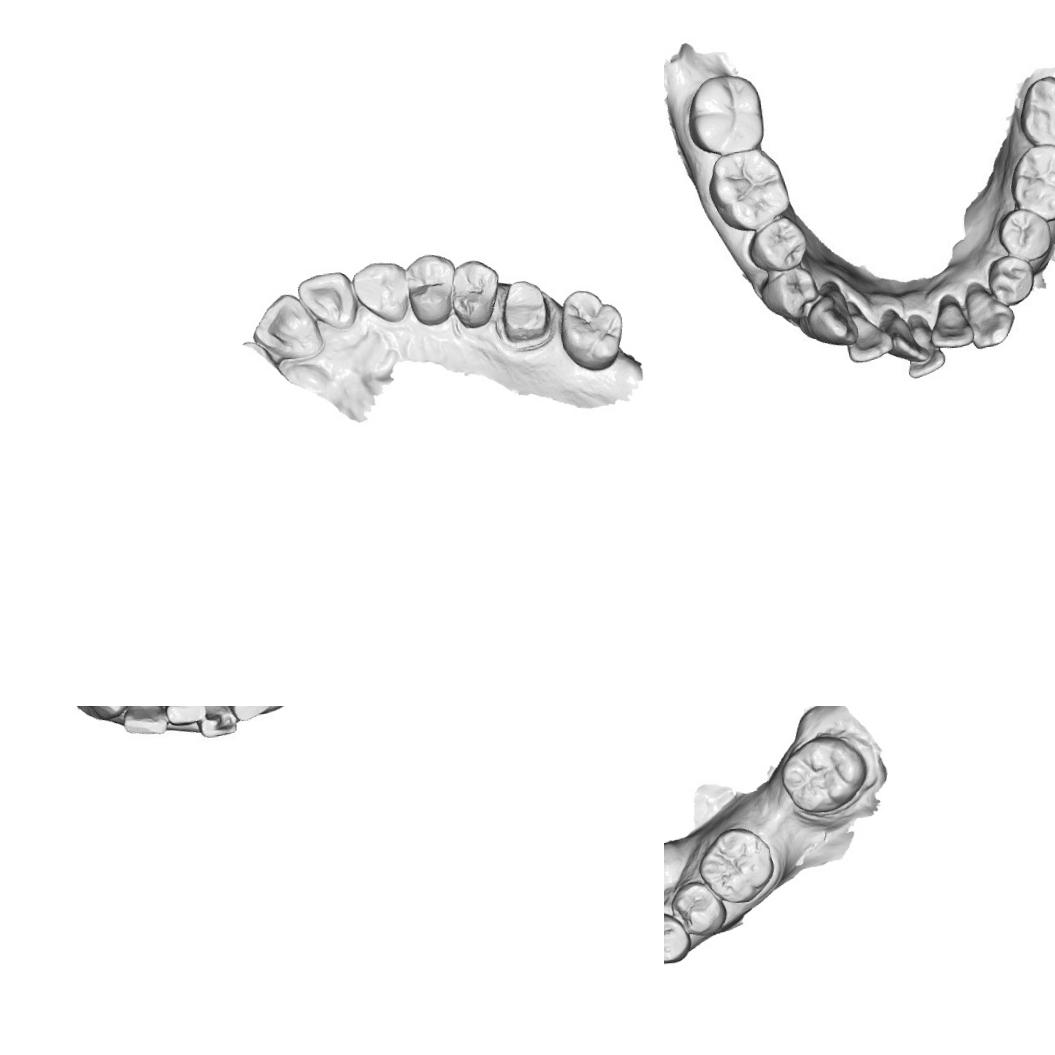canine: (349, 257, 417, 328), (964, 282, 1015, 350), (804, 288, 858, 346), (81, 706, 136, 719)
crown: (494, 276, 555, 350)
incisor: (245, 289, 328, 364), (294, 269, 362, 336), (844, 307, 894, 362), (902, 317, 946, 379), (930, 294, 974, 352), (883, 310, 926, 366), (193, 706, 236, 744), (122, 706, 169, 736), (221, 706, 274, 727), (164, 706, 200, 730)
molar: (768, 724, 871, 819), (705, 147, 791, 236), (694, 821, 776, 908), (555, 282, 630, 374), (684, 71, 764, 157), (1010, 140, 1055, 222), (1016, 69, 1055, 151)
premolar: (403, 248, 466, 330), (445, 254, 502, 334), (667, 874, 727, 940), (744, 216, 808, 274), (762, 263, 822, 318), (999, 207, 1054, 262), (986, 252, 1038, 306), (664, 903, 691, 967)
